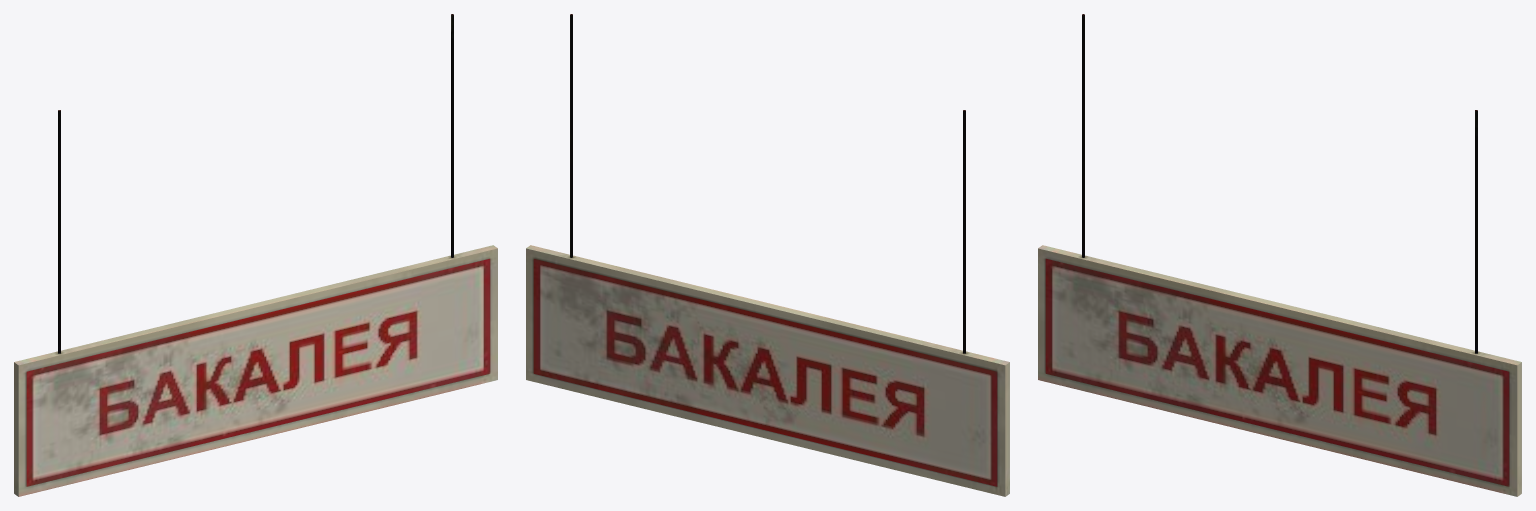
The model's file is sign_bakaleya_lod1_web.glb.
The picture shows the model from 3 angles, left to right: view 1: azimuth 30°, elevation 25°; view 2: azimuth 150°, elevation 25°; view 3: azimuth 330°, elevation 25°; orthographic projection.
Visible parts, largest first — view 1: SignBakaleya_Body; view 2: SignBakaleya_Body; view 3: SignBakaleya_Body.
Boxes of the visible parts, box(x1,y1,x2,y2) form: SignBakaleya_Body: box(14, 14, 497, 496); SignBakaleya_Body: box(526, 14, 1009, 496); SignBakaleya_Body: box(1038, 14, 1521, 496).
Size of the model in its own units: 1.22 by 0.91 by 0.021.
1 material, 1 textured.
